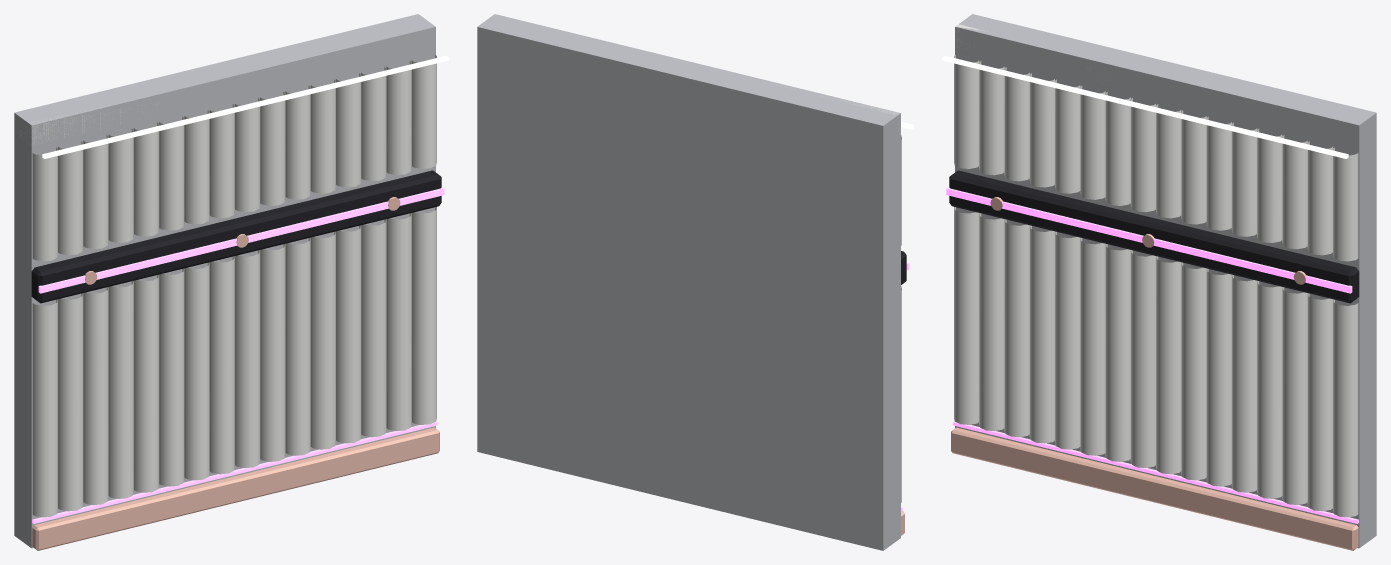
The model's file is wall_flute.glb.
3 renders of one model, left to right at view 1: azimuth 30°, elevation 25°; view 2: azimuth 150°, elevation 25°; view 3: azimuth 330°, elevation 25°, orthographic.
Parts seen in each view (by area): view 1: wall_flute; view 2: wall_flute; view 3: wall_flute.
Boxes of the visible parts, left/top/right/bottom form: wall_flute: left=14, top=14, right=448, bottom=550; wall_flute: left=477, top=14, right=913, bottom=550; wall_flute: left=942, top=14, right=1376, bottom=550.
Bounding box in the file's own units: 4 × 4 × 0.52.
